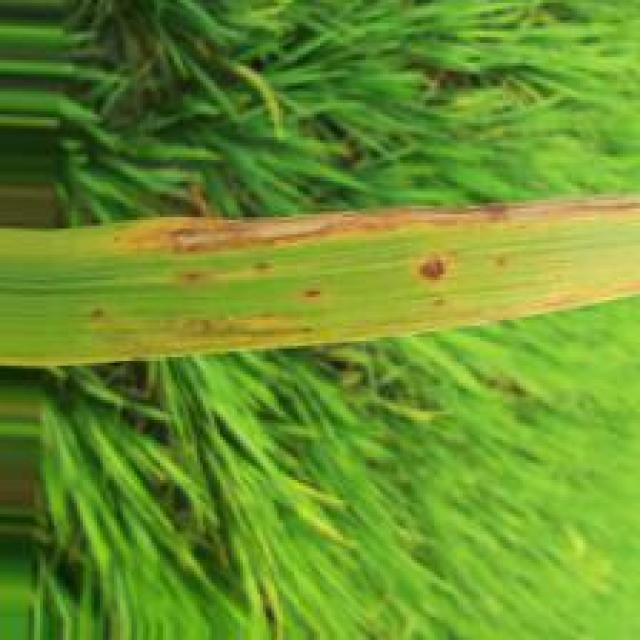Rice Tungro: (127, 202, 517, 255), (412, 251, 453, 286)
